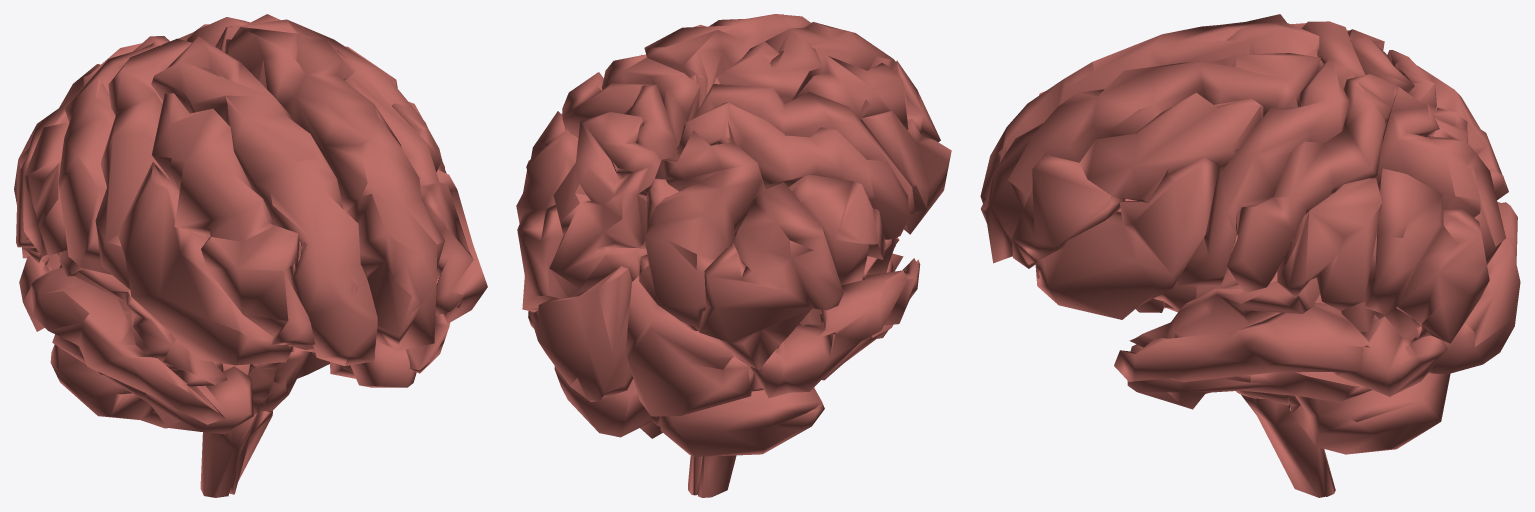
File: brain.glb
3 views of the same model, side by side, from view 1: azimuth 30°, elevation 25°; view 2: azimuth 150°, elevation 25°; view 3: azimuth 270°, elevation 25° (orthographic). The views are drawn at different scales.
Parts seen in each view (by area): view 1: brain; view 2: brain; view 3: brain.
Boxes of the visible parts, bbox=[...] form: brain: bbox=[14, 14, 487, 497]; brain: bbox=[516, 14, 951, 497]; brain: bbox=[980, 14, 1520, 497].
Bounding box in the file's own units: 0.1372 × 0.1652 × 0.1791.
